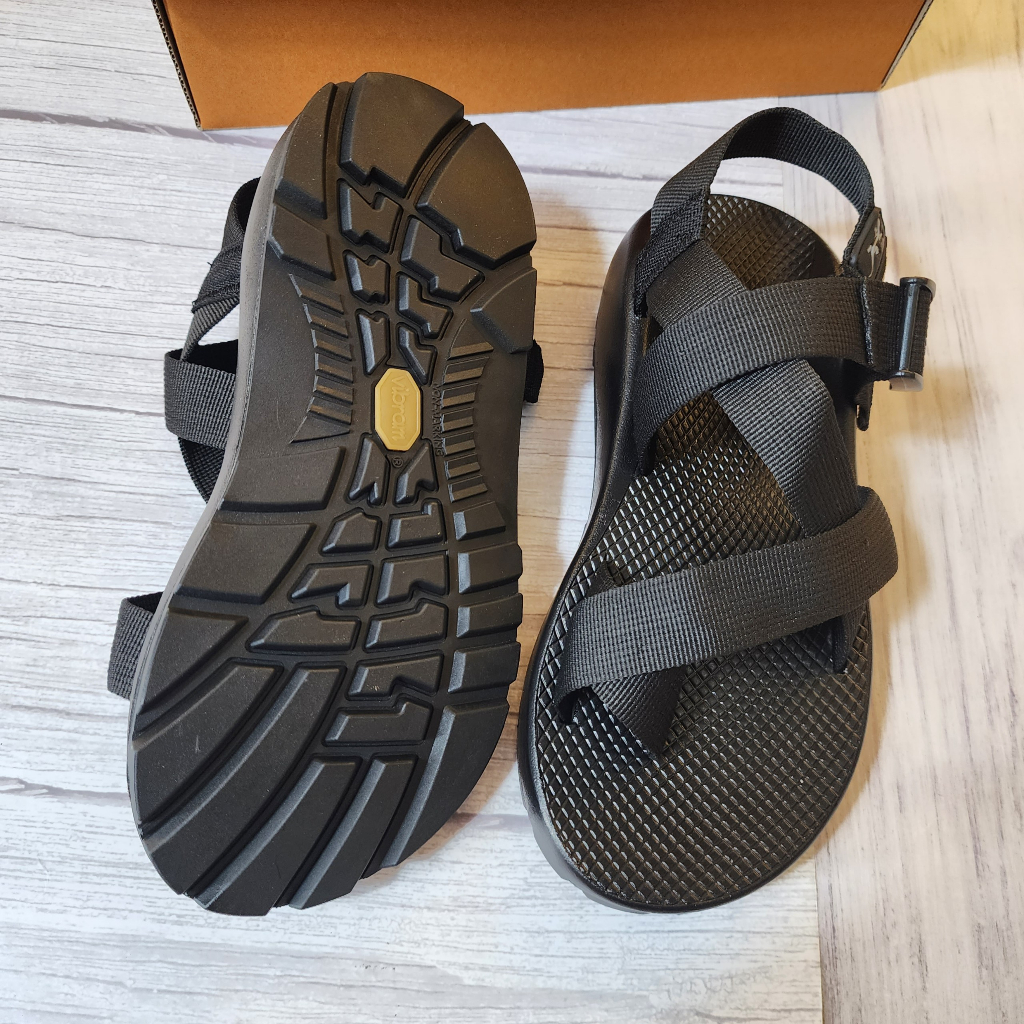sandals: (103, 70, 544, 919), (518, 107, 933, 918)
